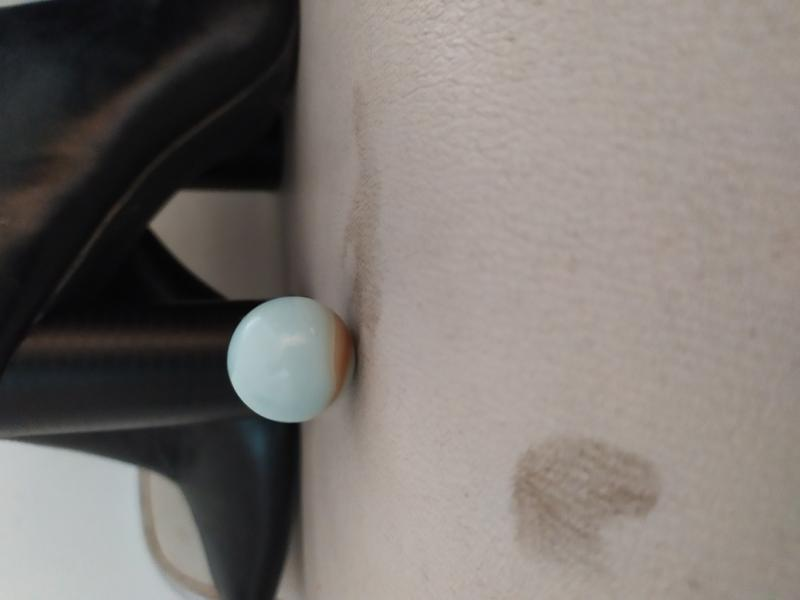Warning: (222, 291, 361, 427)
